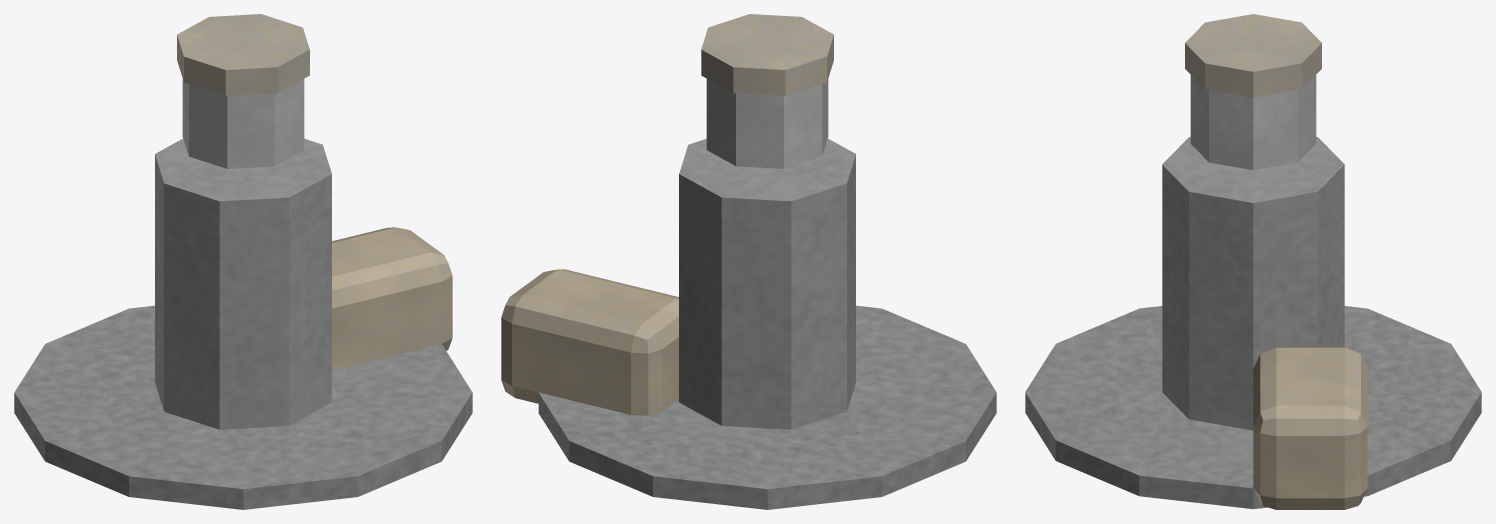
The model's file is com_engineer.glb.
The picture shows the model from 3 angles, left to right: view 1: azimuth 30°, elevation 25°; view 2: azimuth 150°, elevation 25°; view 3: azimuth 270°, elevation 25°; orthographic projection.
Visible parts, largest first — view 1: com_engineer; view 2: com_engineer; view 3: com_engineer.
Part boxes in pixels (box(x1,y1,x2,y2)): com_engineer: box(14, 14, 472, 509); com_engineer: box(501, 14, 996, 509); com_engineer: box(1025, 14, 1481, 509).
Size of the model in its own units: 0.42 by 0.3575 by 0.4.
Materials: 1 (1 with a texture image).
